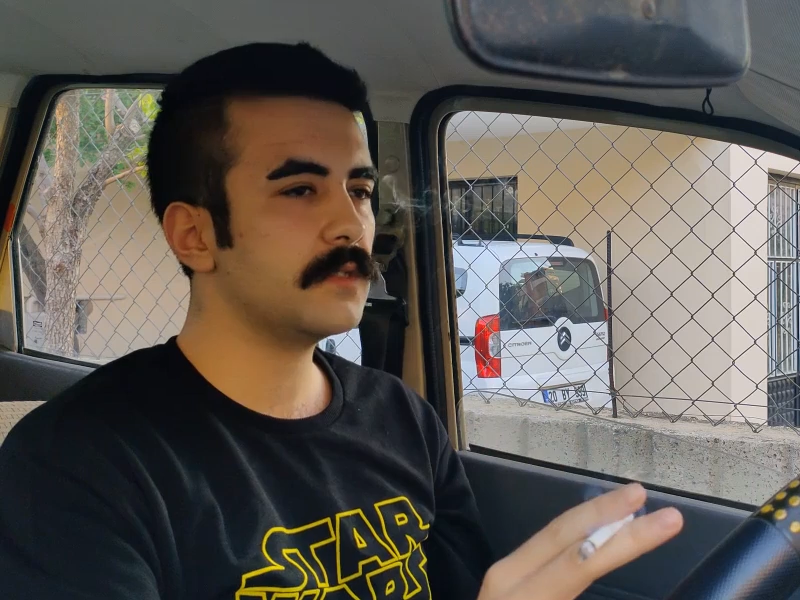sigara: (575, 511, 636, 560)
